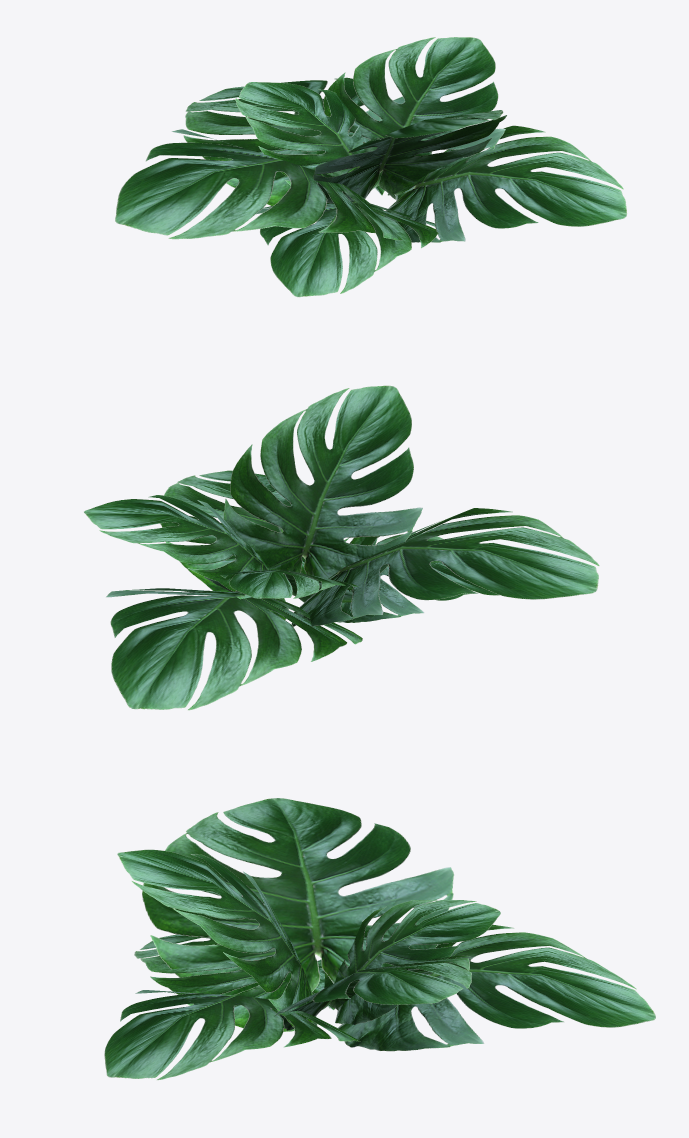
The model's file is Bush.FBX.
3 renders of one model, top to bottom at view 1: azimuth 30°, elevation 25°; view 2: azimuth 150°, elevation 25°; view 3: azimuth 270°, elevation 25°, orthographic. The views are drawn at different scales.
Visible parts, largest first — view 1: Plane003, Plane004, Plane002, Plane005, Plane007, Plane006, Plane001; view 2: Plane007, Plane001, Plane003, Plane002, Plane004, Plane006, Plane005; view 3: Plane003, Plane001, Plane004, Plane007, Plane006, Plane002, Plane005.
Part boxes in pixels (x1,y1,x2,y2): Plane003: [115, 129, 402, 240]; Plane004: [385, 125, 627, 242]; Plane002: [323, 37, 505, 200]; Plane005: [256, 201, 438, 297]; Plane007: [313, 110, 506, 203]; Plane006: [235, 82, 384, 206]; Plane001: [183, 77, 432, 205]; Plane007: [223, 385, 422, 586]; Plane001: [106, 588, 362, 710]; Plane003: [291, 508, 599, 626]; Plane002: [84, 495, 288, 619]; Plane004: [160, 470, 377, 591]; Plane006: [204, 569, 358, 602]; Plane005: [292, 532, 499, 622]; Plane003: [142, 798, 454, 995]; Plane001: [329, 924, 655, 1051]; Plane004: [104, 990, 360, 1080]; Plane007: [117, 849, 317, 1027]; Plane006: [322, 899, 500, 1024]; Plane002: [274, 955, 471, 1030]; Plane005: [134, 934, 335, 1031].
Bounding box in the file's own units: 0.4912 × 0.4596 × 0.1464.
